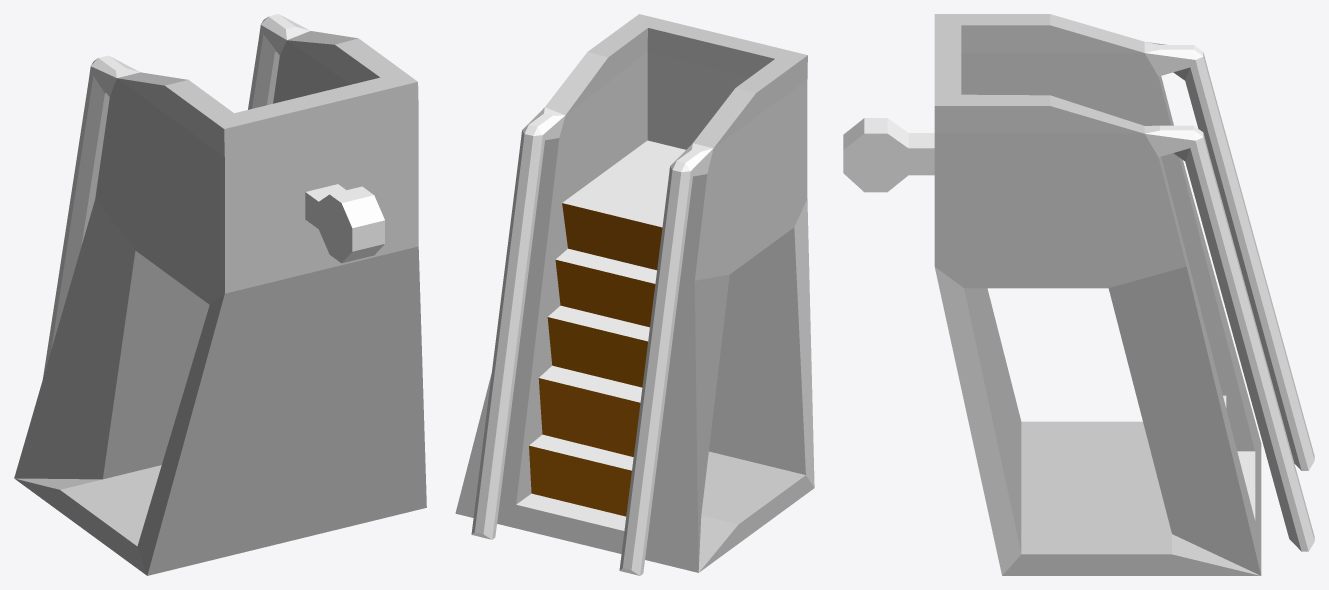
File: decorations.obj
3 renders of one model, left to right at view 1: azimuth 30°, elevation 25°; view 2: azimuth 150°, elevation 25°; view 3: azimuth 270°, elevation 25°, orthographic. The views are drawn at different scales.
Visible parts, largest first — view 1: flag_stand_Material, flag_stand_dark_grey; view 2: flag_stand_Material, flag_stand_dark_grey, flag_stand_yellow; view 3: flag_stand_Material, flag_stand_dark_grey.
Boxes of the visible parts, <box> form: flag_stand_Material: <box>14,31,426,575</box>; flag_stand_dark_grey: <box>43,14,384,377</box>; flag_stand_Material: <box>455,14,814,572</box>; flag_stand_dark_grey: <box>471,107,713,575</box>; flag_stand_yellow: <box>529,203,662,516</box>; flag_stand_Material: <box>934,14,1261,575</box>; flag_stand_dark_grey: <box>843,41,1314,551</box>.
Bounding box in the file's own units: 2.88 × 4.55 × 4.33.
